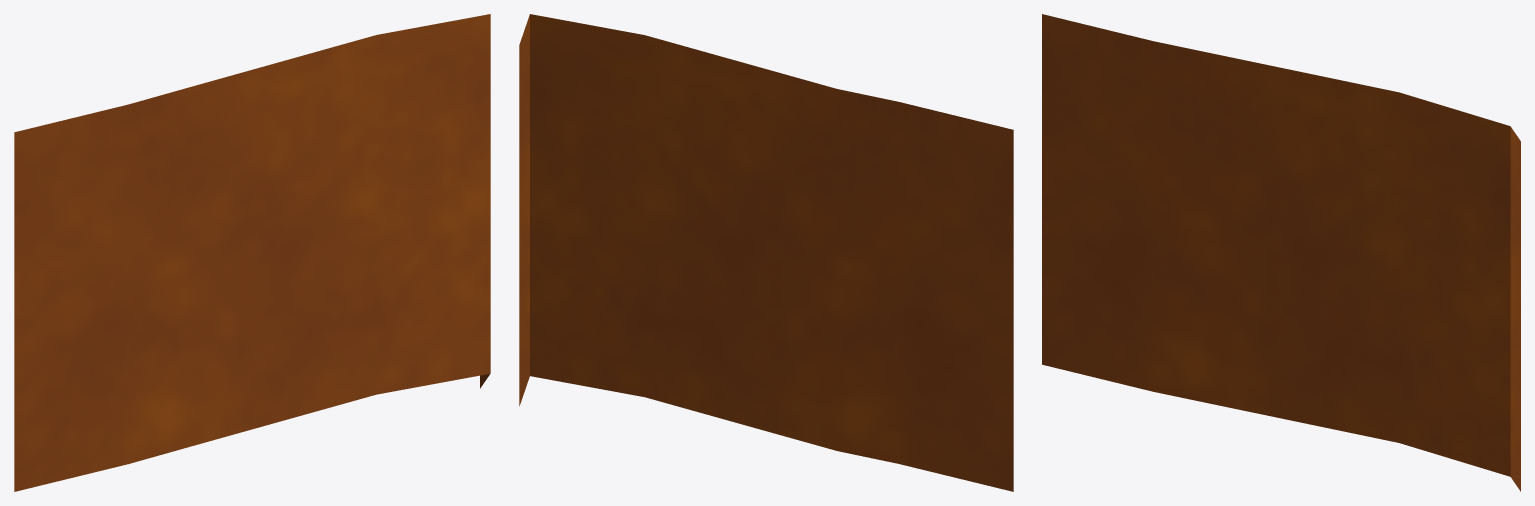
File: PRzekrojowe.fbx
The picture shows the model from 3 angles, left to right: view 1: azimuth 30°, elevation 25°; view 2: azimuth 150°, elevation 25°; view 3: azimuth 330°, elevation 25°; orthographic projection. The views are drawn at different scales.
Visible parts, largest first — view 1: PRzekrojowe; view 2: PRzekrojowe; view 3: PRzekrojowe.
Part boxes in pixels (x1,y1,x2,y2): PRzekrojowe: (14,14,490,491); PRzekrojowe: (519,14,1013,491); PRzekrojowe: (1042,14,1520,491).
Bounding box in the file's own units: 68.69 × 53.5 × 3.21.
